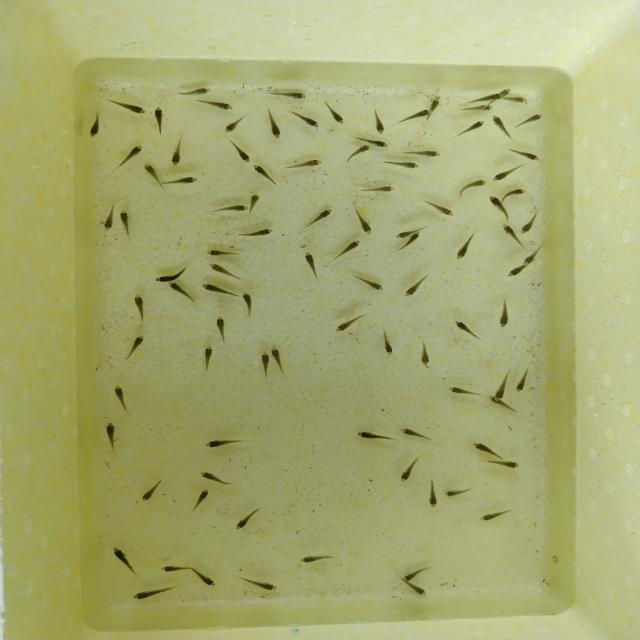fingerling: (110, 546, 146, 580), (232, 572, 280, 594), (231, 503, 265, 533), (131, 583, 181, 603), (192, 468, 240, 488), (332, 309, 367, 334), (452, 230, 478, 263), (349, 205, 376, 236), (223, 138, 254, 164), (419, 199, 459, 219), (164, 281, 198, 304), (113, 143, 144, 168), (300, 208, 335, 230), (330, 238, 362, 262), (206, 262, 244, 282), (108, 97, 148, 116), (472, 439, 508, 460), (130, 292, 152, 324), (293, 551, 337, 567), (399, 426, 438, 444), (200, 284, 241, 301), (340, 144, 373, 165), (398, 454, 421, 484), (477, 506, 515, 524), (503, 145, 541, 163), (403, 273, 431, 297), (490, 196, 518, 220), (110, 380, 131, 412), (451, 318, 480, 341), (153, 264, 190, 282), (491, 163, 526, 182), (416, 337, 435, 372), (301, 252, 323, 282), (124, 332, 146, 362), (150, 102, 170, 135), (188, 488, 213, 514), (352, 274, 386, 293), (202, 436, 248, 450), (140, 477, 163, 504), (140, 163, 163, 190), (499, 222, 521, 250), (285, 156, 326, 171), (494, 366, 512, 400), (442, 484, 480, 500), (199, 248, 254, 259), (355, 429, 398, 443), (399, 580, 429, 600), (453, 120, 486, 138), (456, 178, 489, 196), (512, 113, 546, 130), (378, 326, 396, 358), (103, 420, 119, 456), (266, 109, 283, 142), (444, 384, 484, 398), (490, 114, 513, 138), (169, 137, 186, 169), (493, 400, 523, 418), (293, 110, 321, 129), (326, 102, 348, 126), (496, 298, 511, 331), (270, 345, 285, 378), (253, 166, 279, 185), (164, 174, 202, 187), (514, 370, 536, 392), (241, 290, 257, 320), (88, 108, 104, 138), (214, 315, 229, 347), (399, 108, 433, 122), (402, 566, 438, 579), (369, 108, 387, 134), (193, 570, 219, 588), (520, 212, 539, 236), (481, 458, 519, 470), (196, 100, 236, 111), (524, 244, 544, 266), (454, 104, 497, 114), (379, 161, 422, 171), (210, 203, 249, 214), (201, 343, 215, 373), (267, 90, 309, 100), (175, 86, 213, 97), (223, 116, 247, 133), (156, 563, 190, 575), (102, 205, 117, 232), (403, 150, 443, 160), (426, 476, 438, 509), (237, 226, 275, 236), (118, 209, 132, 236), (258, 352, 272, 378), (356, 186, 396, 194), (469, 93, 506, 101), (248, 193, 262, 214), (498, 188, 526, 198), (503, 265, 523, 278), (370, 138, 391, 149), (428, 96, 442, 110), (508, 95, 527, 105), (392, 230, 410, 239)
